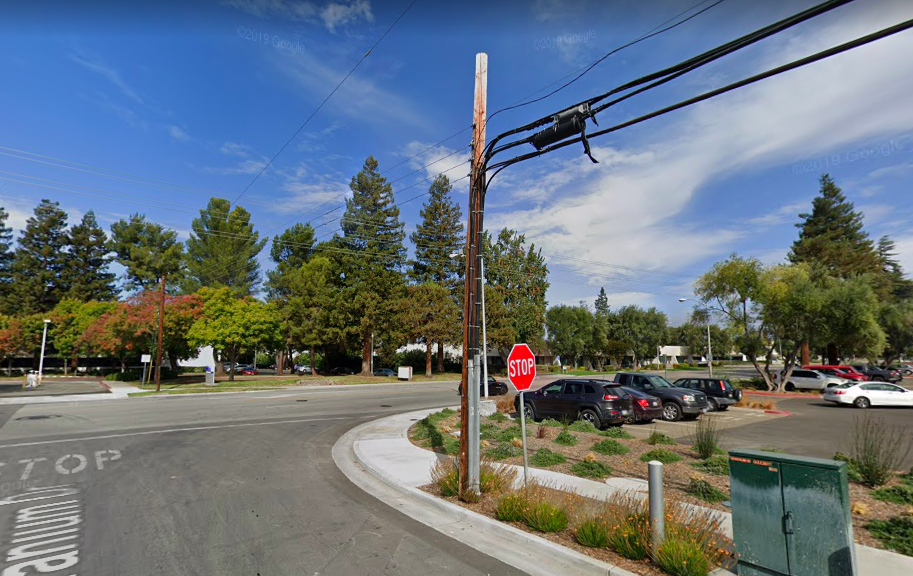utility_pole: (439, 40, 517, 210)
